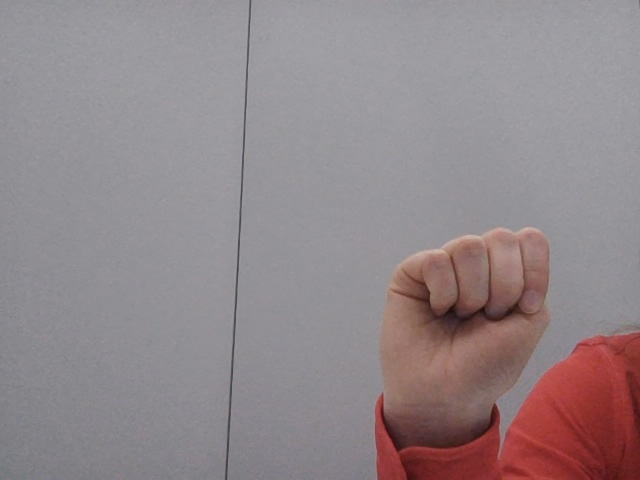down: (359, 208, 568, 469)
